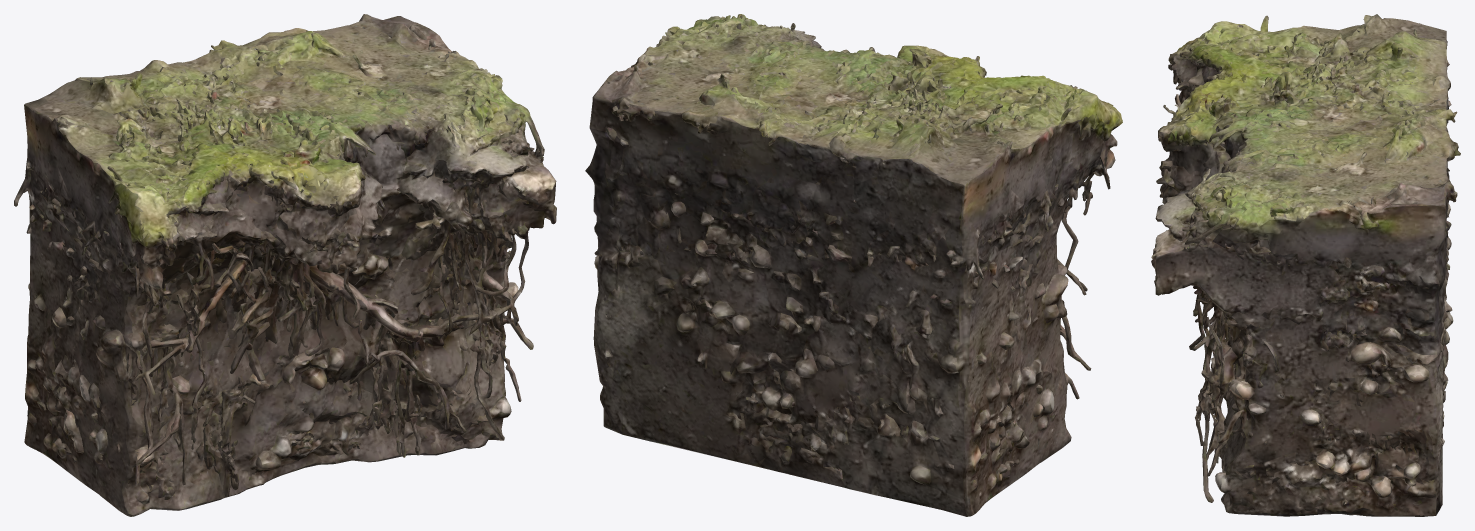
Rendered from root-bank-v5-lod.glb.
3 views of the same model, side by side, from view 1: azimuth 30°, elevation 25°; view 2: azimuth 150°, elevation 25°; view 3: azimuth 270°, elevation 25° (orthographic). The views are drawn at different scales.
Parts seen in each view (by area): view 1: geometry_0; view 2: geometry_0; view 3: geometry_0.
Part boxes in pixels (left/top/right/bottom): geometry_0: left=14, top=14, right=556, bottom=516; geometry_0: left=585, top=14, right=1122, bottom=516; geometry_0: left=1151, top=14, right=1460, bottom=516.
Size of the model in its own units: 0.4997 by 0.428 by 0.3491.
1 material, 1 textured.
